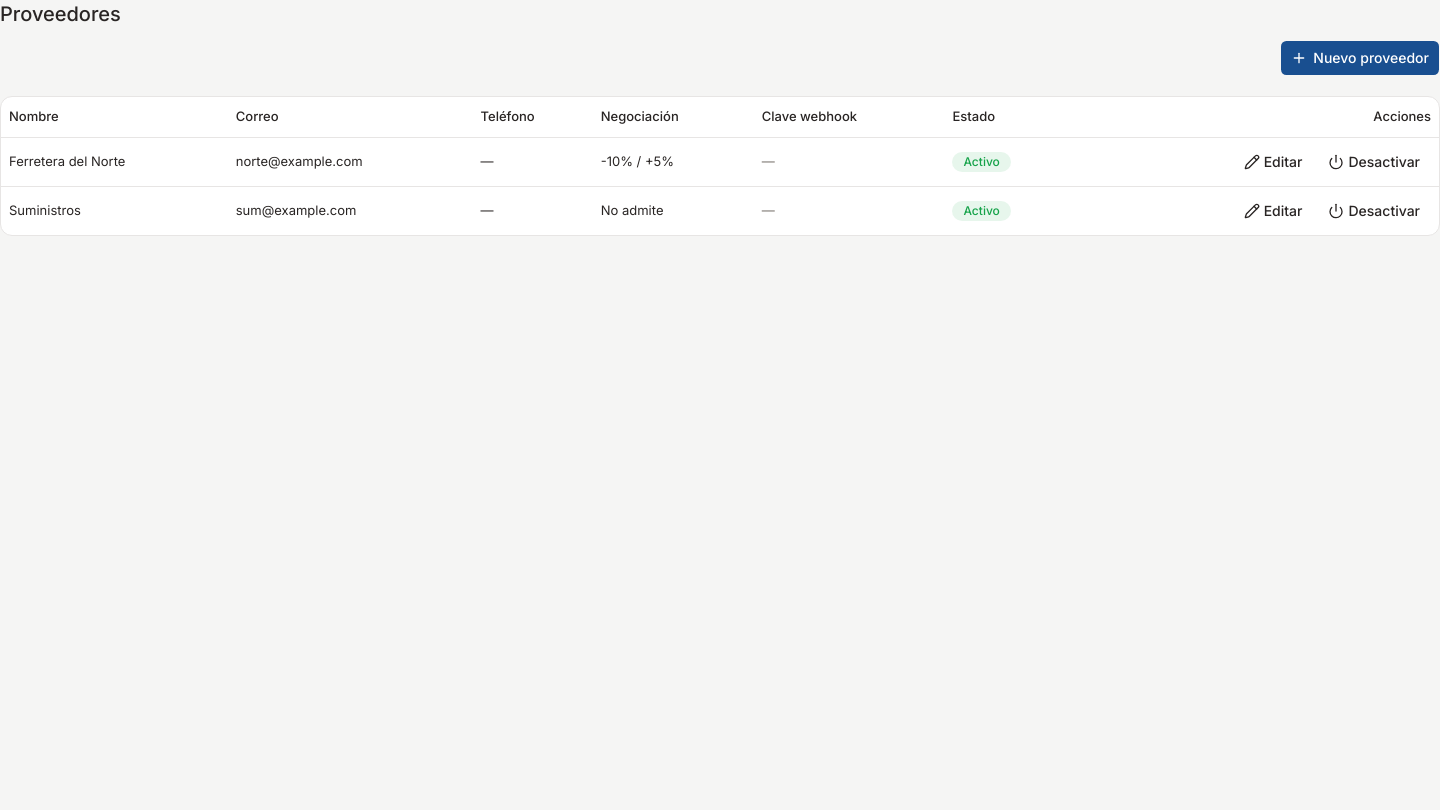
it: límites de negociación en la administración de proveedores › el formulario de edición carga los límites actuales del proveedor
The image size is (1440, 810).
Expected: the text "Ferretera del Norte" is shown, [1,137,228,186]
Click the button "Editar" in the row of "Ferretera del Norte": (1273, 162) [1233,146,1314,178]
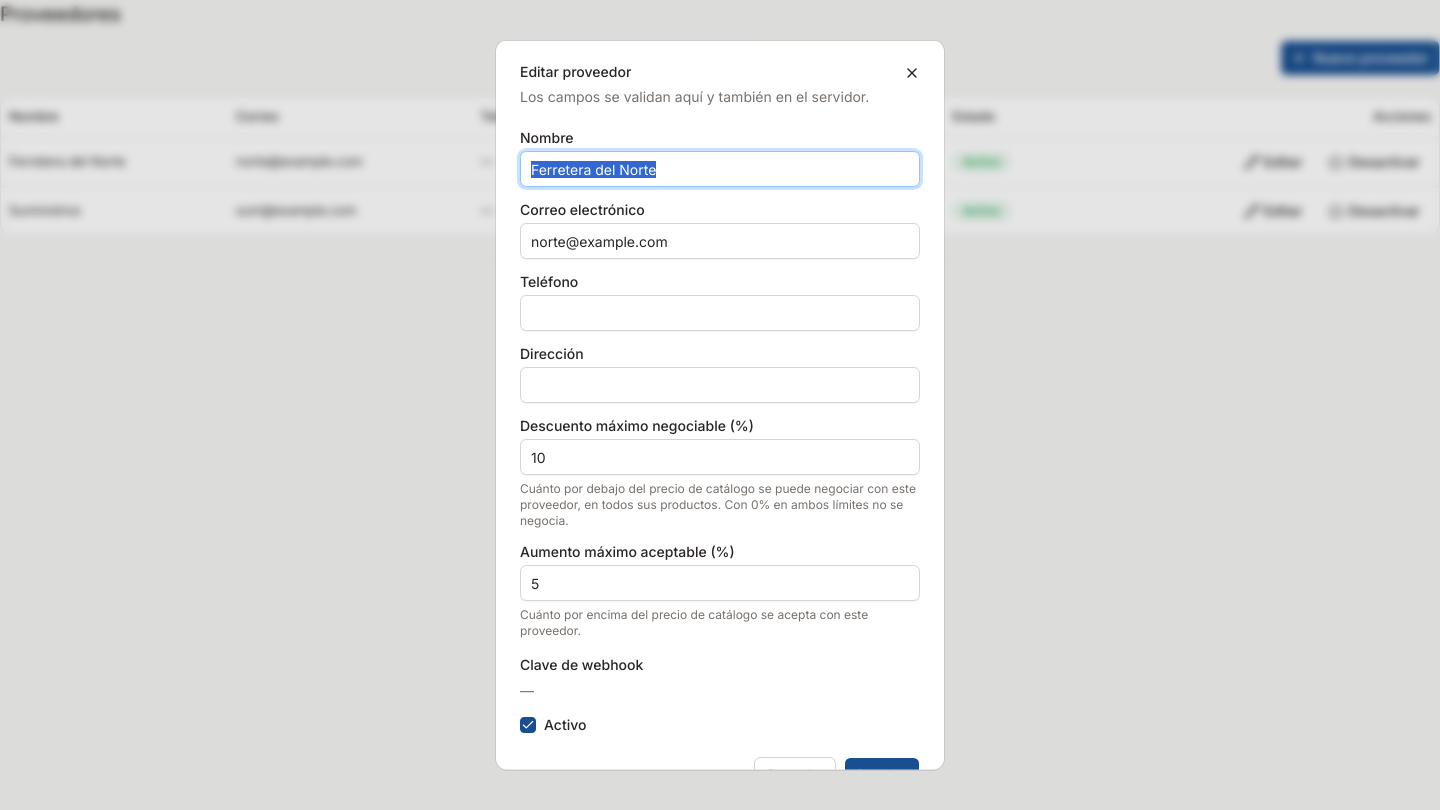
Expected: the number field labelled "Descuento máximo negociable (%)" holds "10", [520,438,920,474]
Expected: the number field labelled "Aumento máximo aceptable (%)" holds "5", [520,564,920,600]
